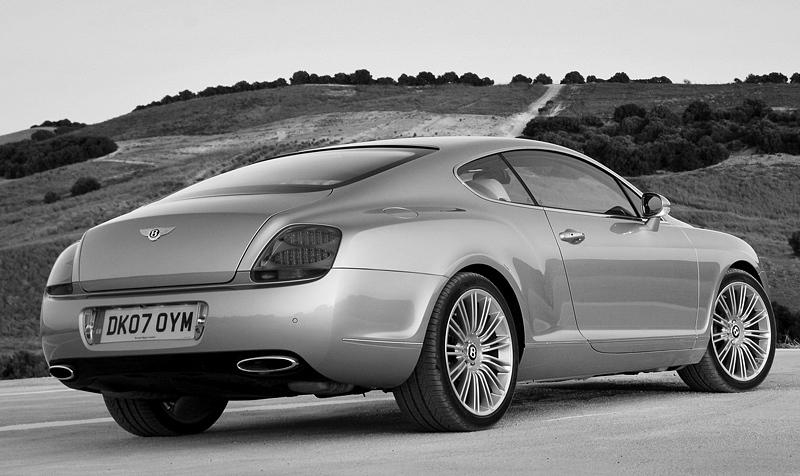car: (35, 134, 781, 431)
